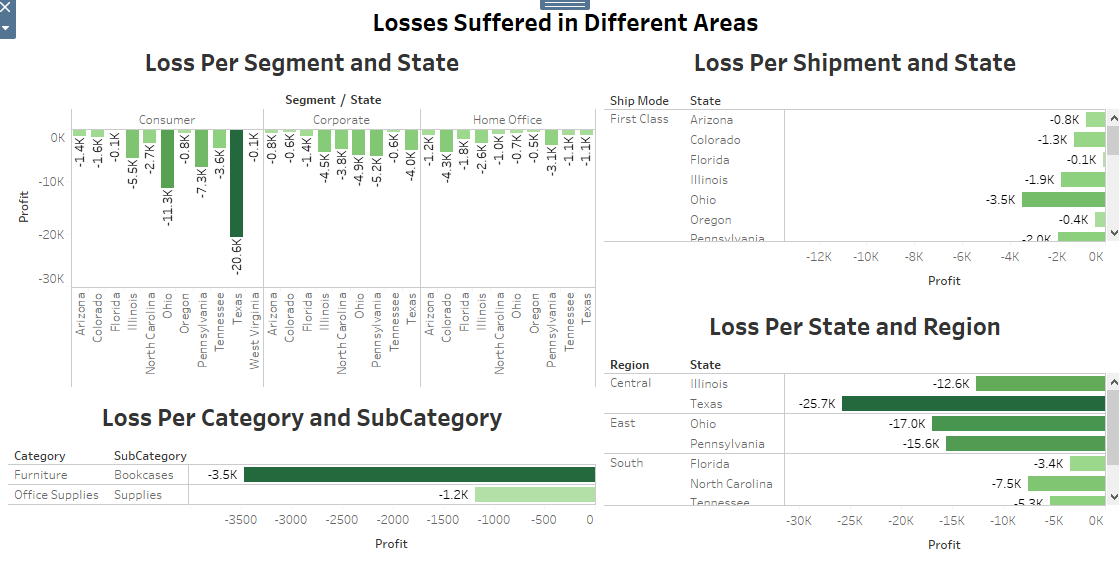

The dashboard page shown, as its layout file describes it:
{"tool":"tableau","page":{"name":"Losses Suffered","canvas":[1000,1000],"units":"permille","ordinal":0},"visuals":[{"type":"worksheet","box":[0,0,1000,1000]},{"type":"worksheet","box":[7,13.9,986,55.6]},{"type":"worksheet","param":"horz","box":[7,69.4,986,916.7]},{"type":"worksheet","param":"horz","box":[7,69.4,986,916.7]},{"type":"worksheet","box":[7,69.4,986,916.7]},{"type":"worksheet","title":"Loss By Segment and State","mark":"Automatic","rows":["Profit"],"cols":["Segment","State"],"box":[7,69.4,523.2,615.5]},{"type":"worksheet","title":"Loss By Shipment and State","mark":"Automatic","rows":["Ship Mode","State"],"cols":["Profit"],"box":[530.2,69.4,462.8,458.3]},{"type":"worksheet","title":"Loss Per State and Region","mark":"Automatic","rows":["Region","State"],"cols":["Profit"],"box":[530.2,527.8,462.8,458.3]},{"type":"worksheet","title":"Loss By Category and SubCategory","mark":"Automatic","rows":["Category","Sub-Category"],"cols":["Profit"],"box":[7,684.9,523.2,301.2]}]}

Visuals, with their boxes on the dashboard's canvas, which has no fixed pixel size, in thousandths of its width and height (x1, y1, x2, y2). These are canvas units, not pixel positions in the 1119x562 screenshot, which may show the page scaled, cropped or inside an application window:
worksheet: bbox=[0, 0, 1000, 1000]
worksheet: bbox=[7, 14, 993, 70]
worksheet: bbox=[7, 69, 993, 986]
worksheet: bbox=[7, 69, 993, 986]
worksheet: bbox=[7, 69, 993, 986]
"Loss By Segment and State" worksheet: bbox=[7, 69, 530, 685]
"Loss By Shipment and State" worksheet: bbox=[530, 69, 993, 528]
"Loss Per State and Region" worksheet: bbox=[530, 528, 993, 986]
"Loss By Category and SubCategory" worksheet: bbox=[7, 685, 530, 986]
